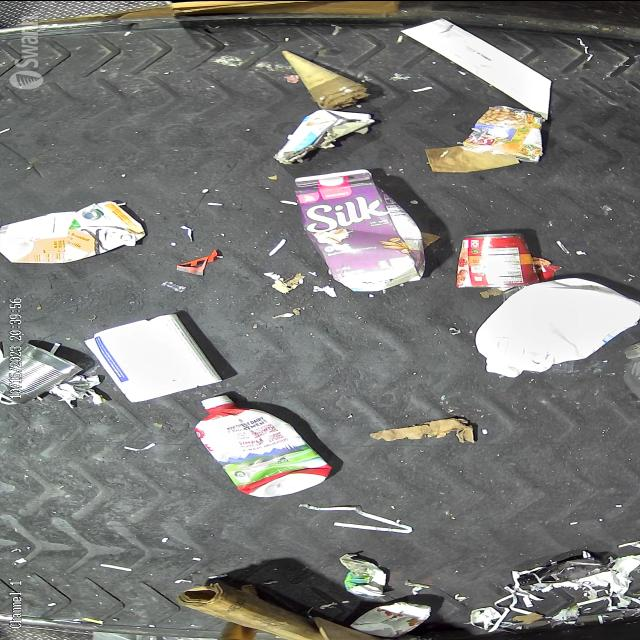can: (444, 231, 554, 290), (0, 330, 78, 406)
milk_jug: (470, 273, 640, 379)
